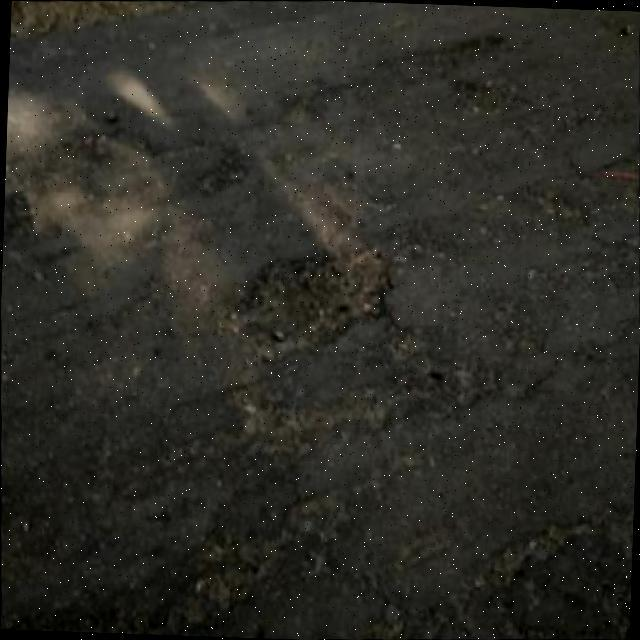Pothole: (224, 250, 390, 367)
